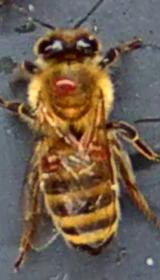varroa_mite: (78, 134, 116, 161), (34, 145, 65, 176), (49, 72, 76, 94)
